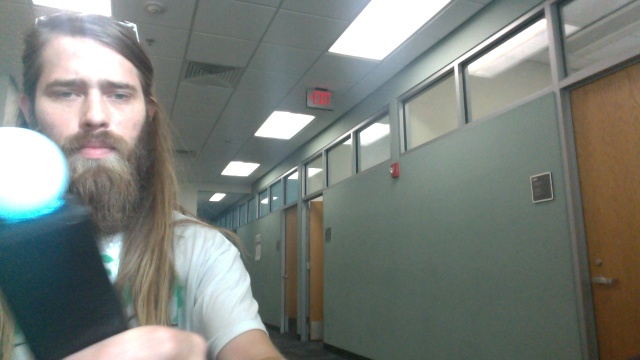wand: (1, 128, 68, 218)
